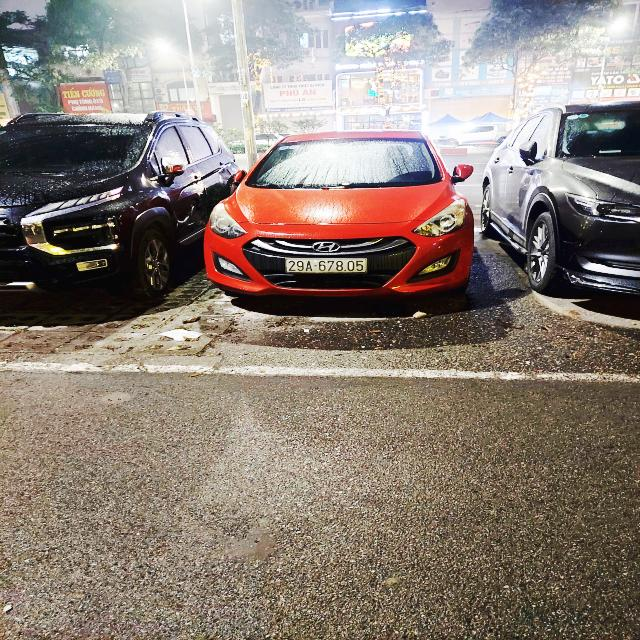license_plate: (284, 258, 371, 275)
